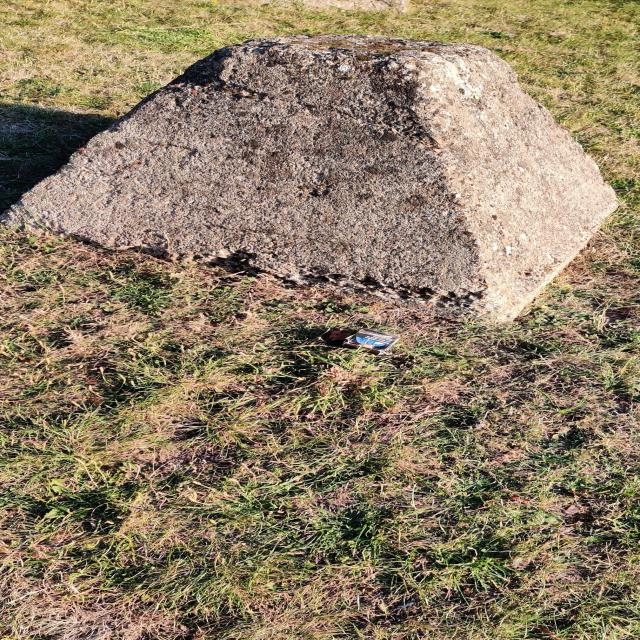litter: (336, 326, 400, 356)
